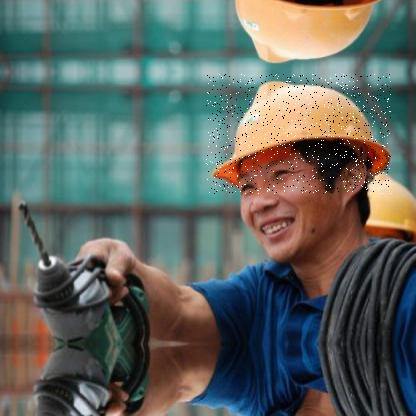safetyhelmet: (206, 74, 392, 195)
